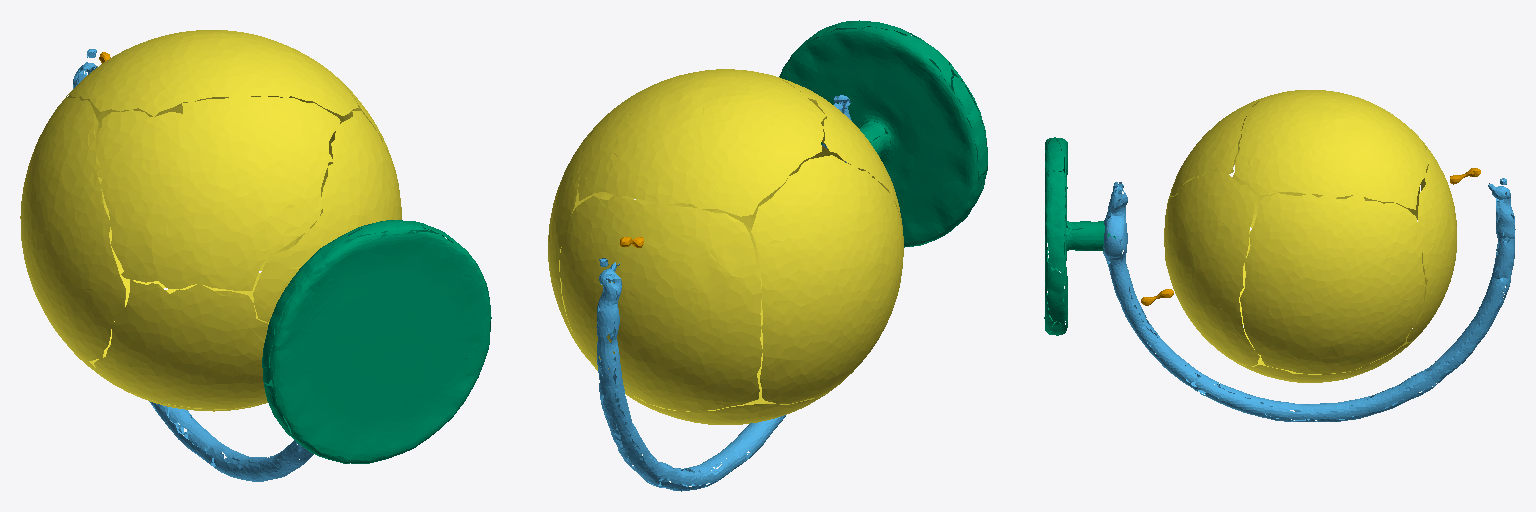
URDF robot description (a_globe_1):
<?xml version='1.0' encoding='utf-8'?>
<robot name="a_globe_1">
  <link name="axis_pins">
    <visual>
      <geometry>
        <mesh filename="links/axis_pins_refined.obj" />
      </geometry>
      <origin xyz="0.0 -2.8 0.0" rpy="0.0 0.0 0.0" />
    </visual>
    <collision>
      <geometry>
        <mesh filename="links/axis_pins_refined.obj" />
      </geometry>
      <origin xyz="0.0 -2.8 0.0" rpy="0.0 0.0 0.0" />
    </collision>
  </link>
  <link name="meridian_arch">
    <visual>
      <geometry>
        <mesh filename="links/meridian_arch_refined.obj" />
      </geometry>
      <origin xyz="0.0 -2.8 0.0" rpy="0.0 0.0 0.0" />
    </visual>
    <collision>
      <geometry>
        <mesh filename="links/meridian_arch_refined.obj" />
      </geometry>
      <origin xyz="0.0 -2.8 0.0" rpy="0.0 0.0 0.0" />
    </collision>
  </link>
  <link name="base_stand">
    <visual>
      <geometry>
        <mesh filename="links/base_stand_refined.obj" />
      </geometry>
    </visual>
    <collision>
      <geometry>
        <mesh filename="links/base_stand_refined.obj" />
      </geometry>
    </collision>
  </link>
  <link name="globe_sphere">
    <visual>
      <geometry>
        <mesh filename="links/globe_sphere_refined.obj" />
      </geometry>
      <origin xyz="0.0 -2.567768208278347 1.1164973929906892" rpy="-0.41015237421866746 0.0 0.0" />
    </visual>
    <collision>
      <geometry>
        <mesh filename="links/globe_sphere_refined.obj" />
      </geometry>
      <origin xyz="0.0 -2.567768208278347 1.1164973929906892" rpy="-0.41015237421866746 0.0 0.0" />
    </collision>
  </link>
  <joint name="base_to_meridian_swivel" type="continuous">
    <parent link="base_stand" />
    <child link="meridian_arch" />
    <origin xyz="0 2.8 0" rpy="0 0 0" />
    <axis xyz="0 1 0" />
    
  </joint>
  <joint name="meridian_to_pins_weld" type="fixed">
    <parent link="meridian_arch" />
    <child link="axis_pins" />
    
    
  </joint>
  <joint name="globe_spin_axis" type="continuous">
    <parent link="meridian_arch" />
    <child link="globe_sphere" />
    <origin xyz="0 0 0" rpy="0.41015237421866746 0 0" />
    <axis xyz="0 1 0" />
    
  </joint>
</robot>

--- Facts derived from the render (not from the file) ---
Views: 3 orthographic renders of the robot side by side, from view 1: azimuth 30°, elevation 25°; view 2: azimuth 150°, elevation 25°; view 3: azimuth 270°, elevation 25°.
Robot: a_globe_1 — 4 links, 3 joints (2 continuous, 1 fixed); root link base_stand; default pose: all joints at 0.
Visible links, largest first — view 1: globe_sphere, base_stand, meridian_arch; view 2: globe_sphere, base_stand, meridian_arch; view 3: globe_sphere, meridian_arch, base_stand.
Boxes of the visible links, x1,y1,x2,y2 form: globe_sphere: (20, 30, 401, 411); base_stand: (262, 220, 491, 463); meridian_arch: (73, 49, 313, 481); globe_sphere: (548, 69, 903, 424); base_stand: (779, 20, 987, 247); meridian_arch: (596, 95, 851, 491); globe_sphere: (1164, 90, 1456, 382); meridian_arch: (1103, 178, 1515, 421); base_stand: (1044, 137, 1115, 335).
Bounding box of the posed robot: 11.96 × 19.23 × 14.29 m (x, y, z).
Meshes: 4 distinct files referenced, 4 mesh visuals loaded (4 OBJ).
